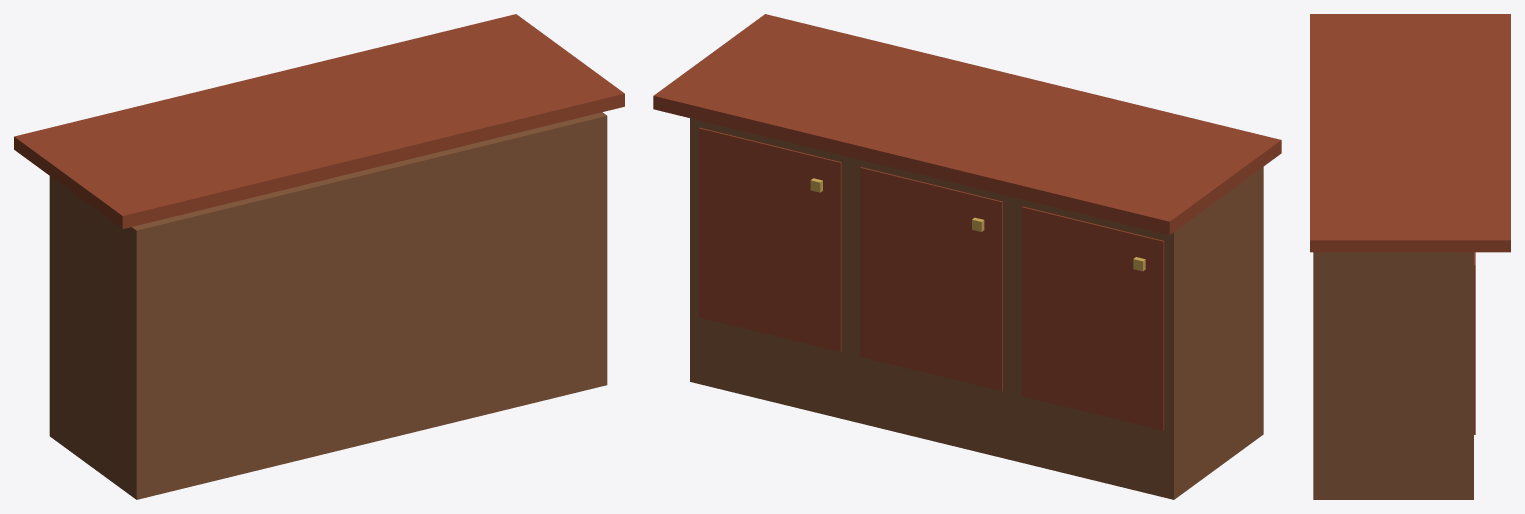
Rendered from SM_PRP_Bancada.fbx.
3 renders of one model, left to right at view 1: azimuth 30°, elevation 25°; view 2: azimuth 150°, elevation 25°; view 3: azimuth 270°, elevation 25°, orthographic. The views are drawn at different scales.
Visible parts, largest first — view 1: SM_PRP_Bancada; view 2: SM_PRP_Bancada; view 3: SM_PRP_Bancada.
Part boxes in pixels (x1,y1,x2,y2): SM_PRP_Bancada: [14, 14, 624, 499]; SM_PRP_Bancada: [653, 14, 1281, 499]; SM_PRP_Bancada: [1310, 14, 1510, 499].
Size of the model in its own units: 1.6 by 0.88 by 0.6.
